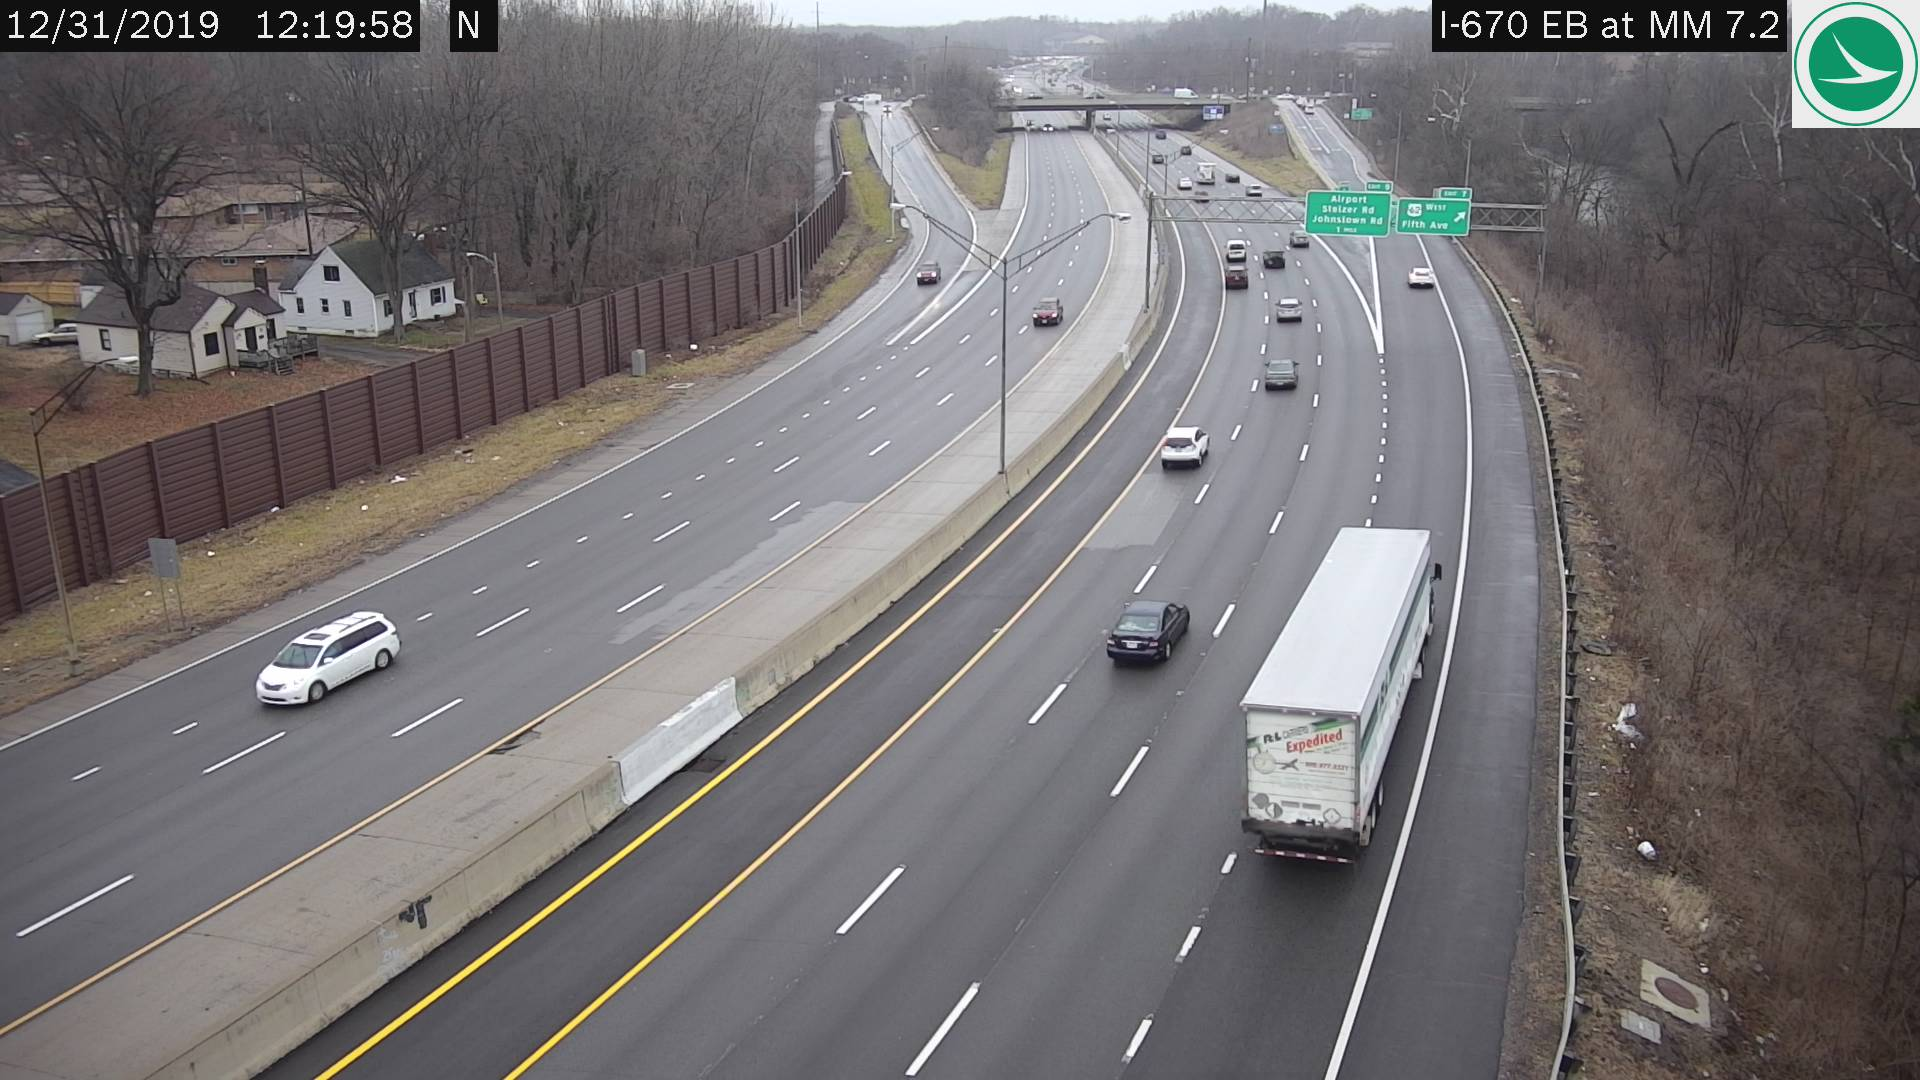car: (1246, 527, 1429, 864), (258, 604, 398, 712), (1106, 600, 1189, 665), (1158, 425, 1207, 468), (1266, 360, 1298, 392), (1033, 295, 1063, 327), (1275, 297, 1303, 324), (915, 260, 943, 287), (1222, 262, 1247, 290), (1408, 265, 1433, 287), (1263, 247, 1286, 266), (1196, 160, 1216, 182), (1226, 240, 1246, 260), (1288, 227, 1305, 245), (1246, 182, 1261, 196), (1176, 175, 1193, 187), (1226, 170, 1238, 182)
